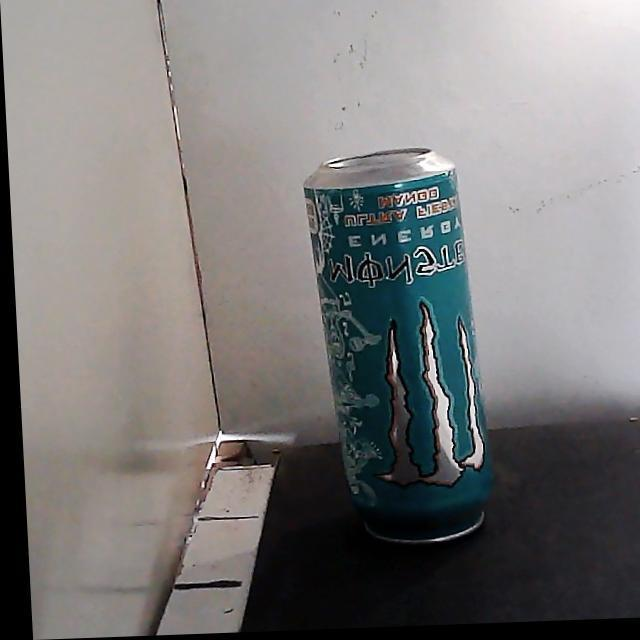metal: (304, 148, 491, 542)
